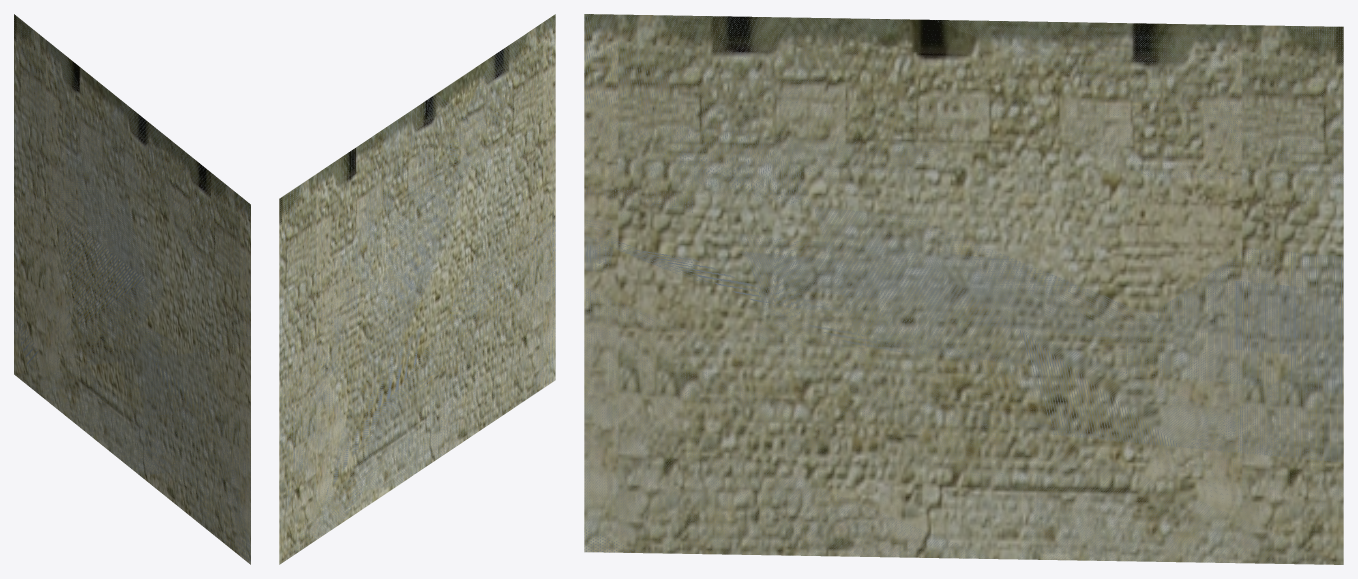
The model's file is 西庸城堡643.dae.
3 views of the same model, side by side, from view 1: azimuth 30°, elevation 25°; view 2: azimuth 150°, elevation 25°; view 3: azimuth 270°, elevation 25° (orthographic). The views are drawn at different scales.
Visible parts, largest first — view 1: SketchUp; view 2: SketchUp; view 3: SketchUp.
Part boxes in pixels (x1,y1,x2,y2): SketchUp: (14,14,250,564); SketchUp: (279,14,555,564); SketchUp: (584,14,1343,564).
Size of the model in its own units: 24.49 by 613 by 479.
